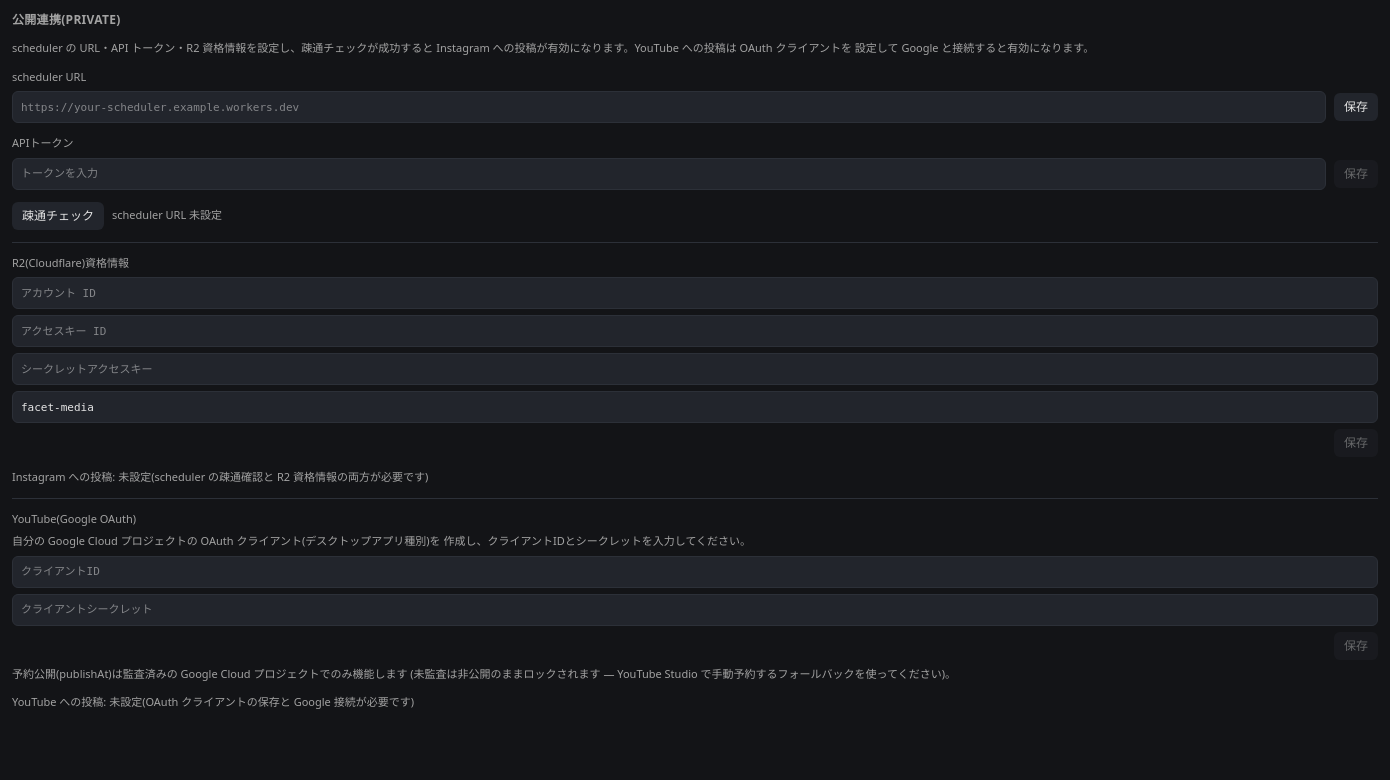
Test: PublishSettingsSection: APIトークン › 削除すると delete_scheduler_api_token が呼ばれ、入力欄に戻る
Type "sekret-token" into the password field named "APIトークン" at (669, 174), box [12,158,1326,190]
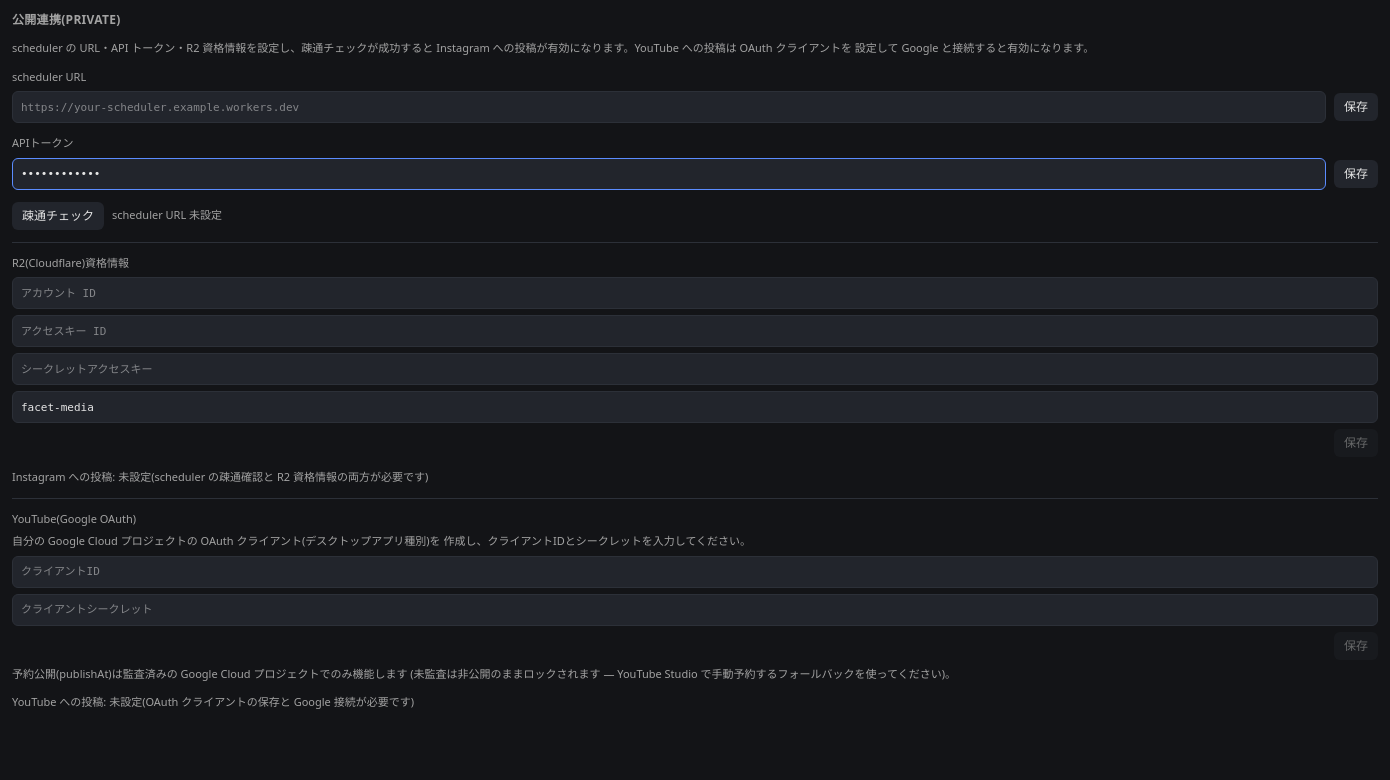
Click the button with aria-label "APIトークンを保存" at (1356, 174), box [1334,160,1378,188]
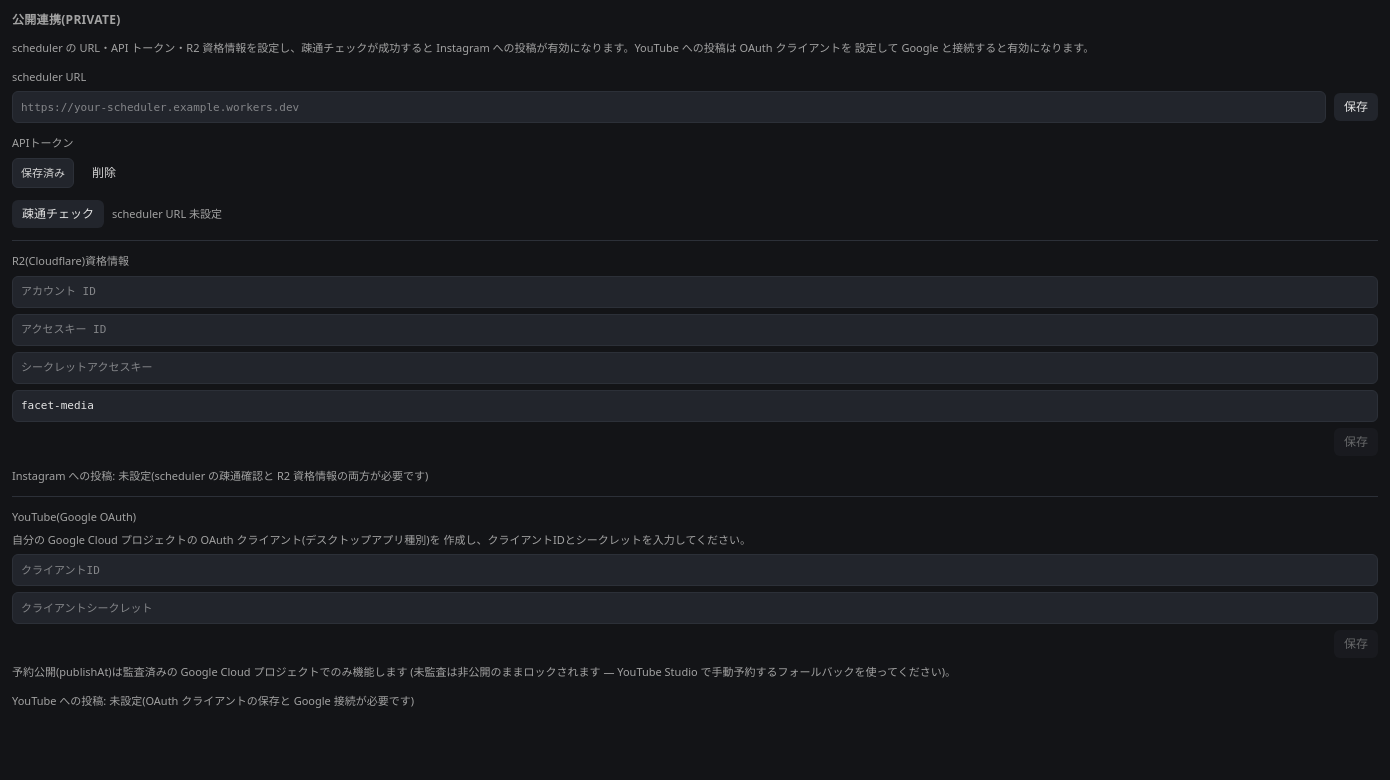
Result: the text "保存済み" is shown at [12,158,74,188]
Click the button "削除" at (104, 173), box [82,159,126,187]
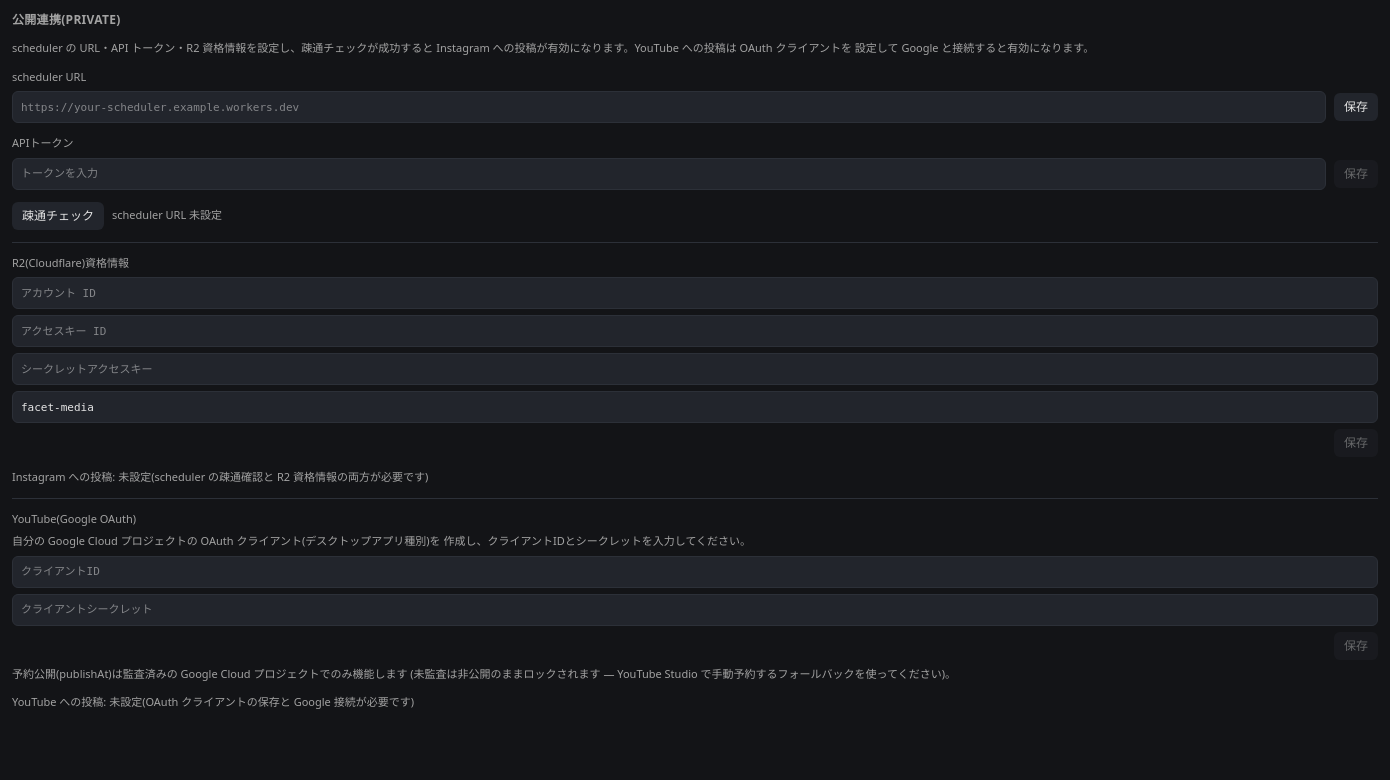
Result: the password field named "APIトークン" is shown at [12,158,1326,190]
